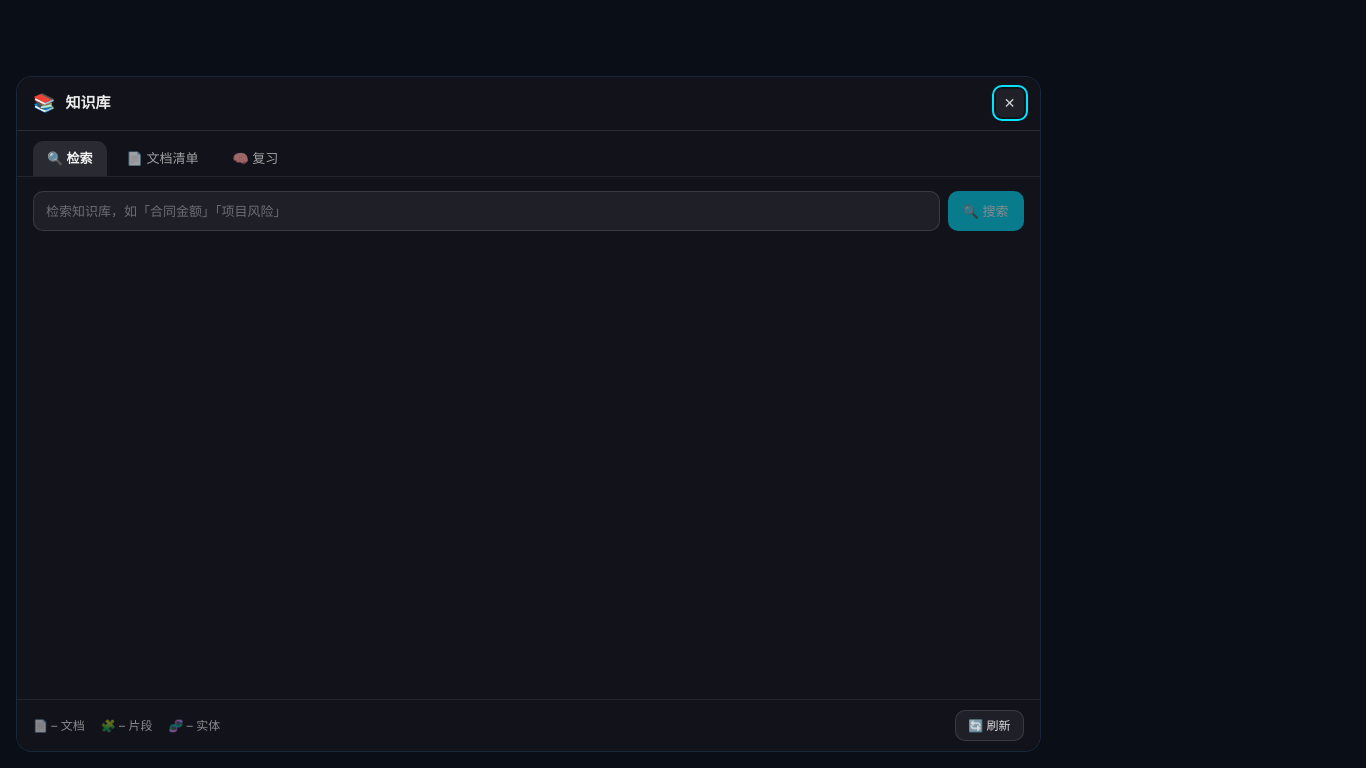
Scenario: KnowledgePanel 知识库面板（DeepTutor 精华前端承载） › 检索:输入 + 搜索 → GET /api/kb/search 带溯源结果展示
This screenshot has width=1366, height=768.
Type "合同金额" into the field named "知识库检索词" at (486, 211), box [33, 191, 940, 231]
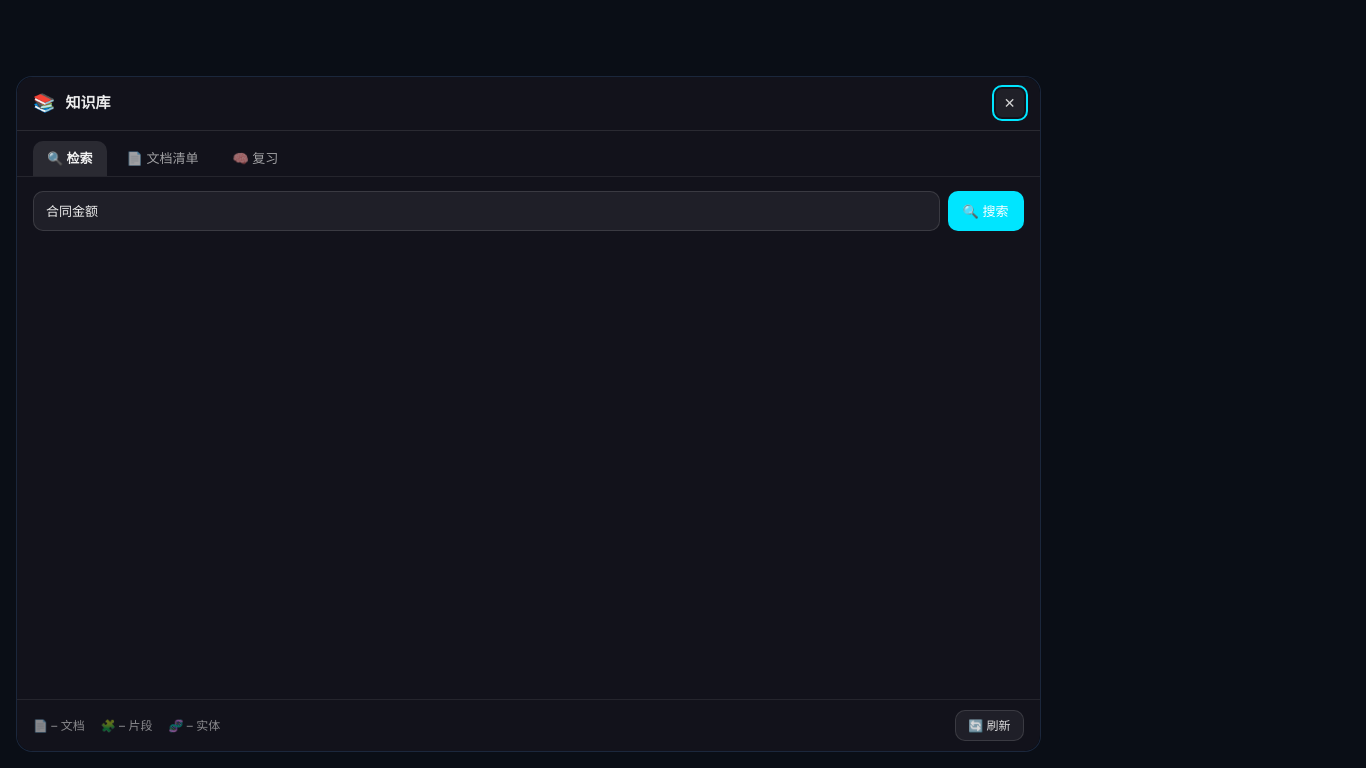
Click the button "🔍 搜索" at (986, 211), box [948, 191, 1024, 231]
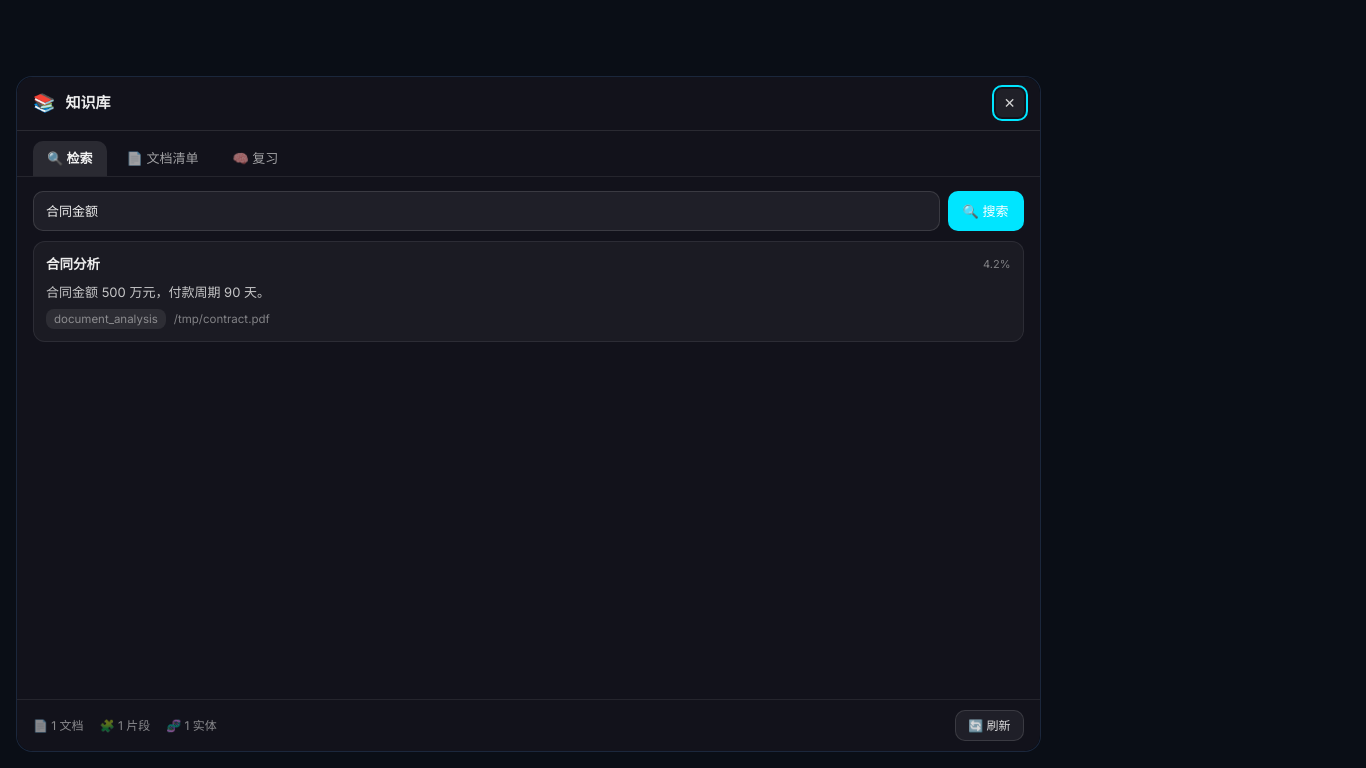
Expected: the text "合同金额 500 万元，付款周期 90 天。" is shown, [46, 284, 270, 300]
Expected: the text "合同分析" is shown, [46, 256, 100, 272]
Expected: the text "/tmp/contract.pdf" is shown, [174, 310, 270, 328]
